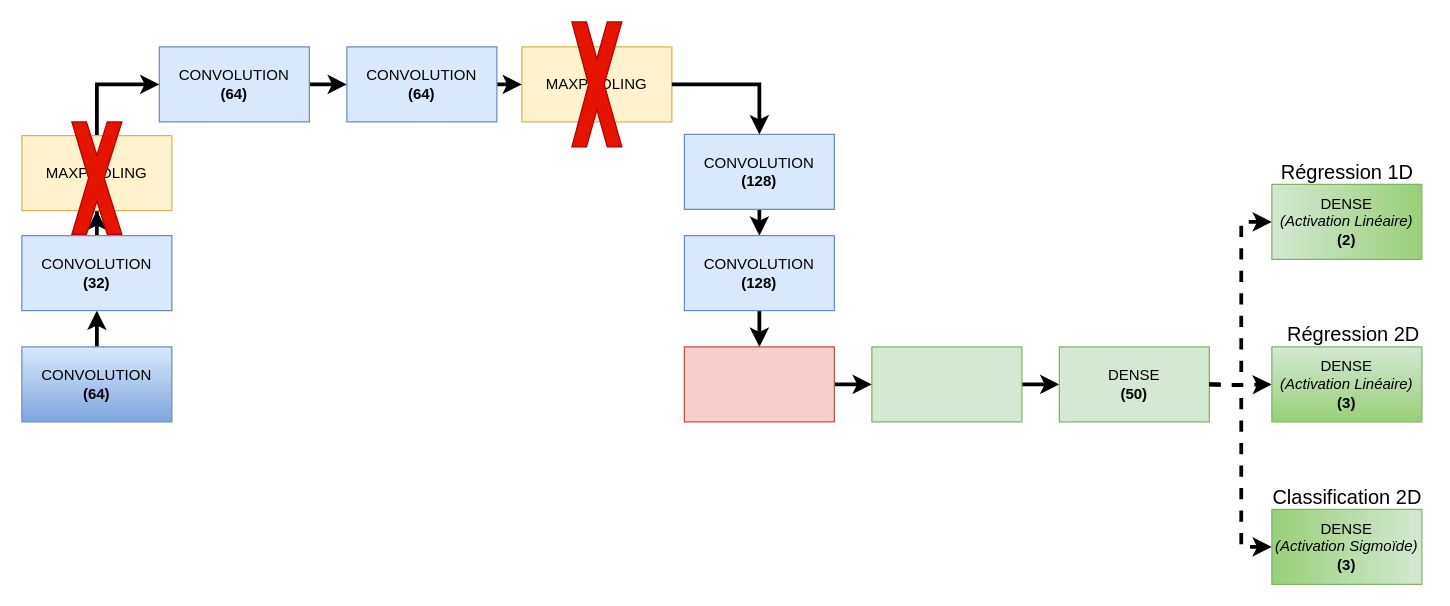
The diagram is 1450 pixels wide and 606 high, and some of its shapes have lost their labels. Here are the shapes that lost their labels. From the top down, the centre of each, then its label:
(x=758, y=384): FLATTEN
(x=946, y=384): DENSE (500)
